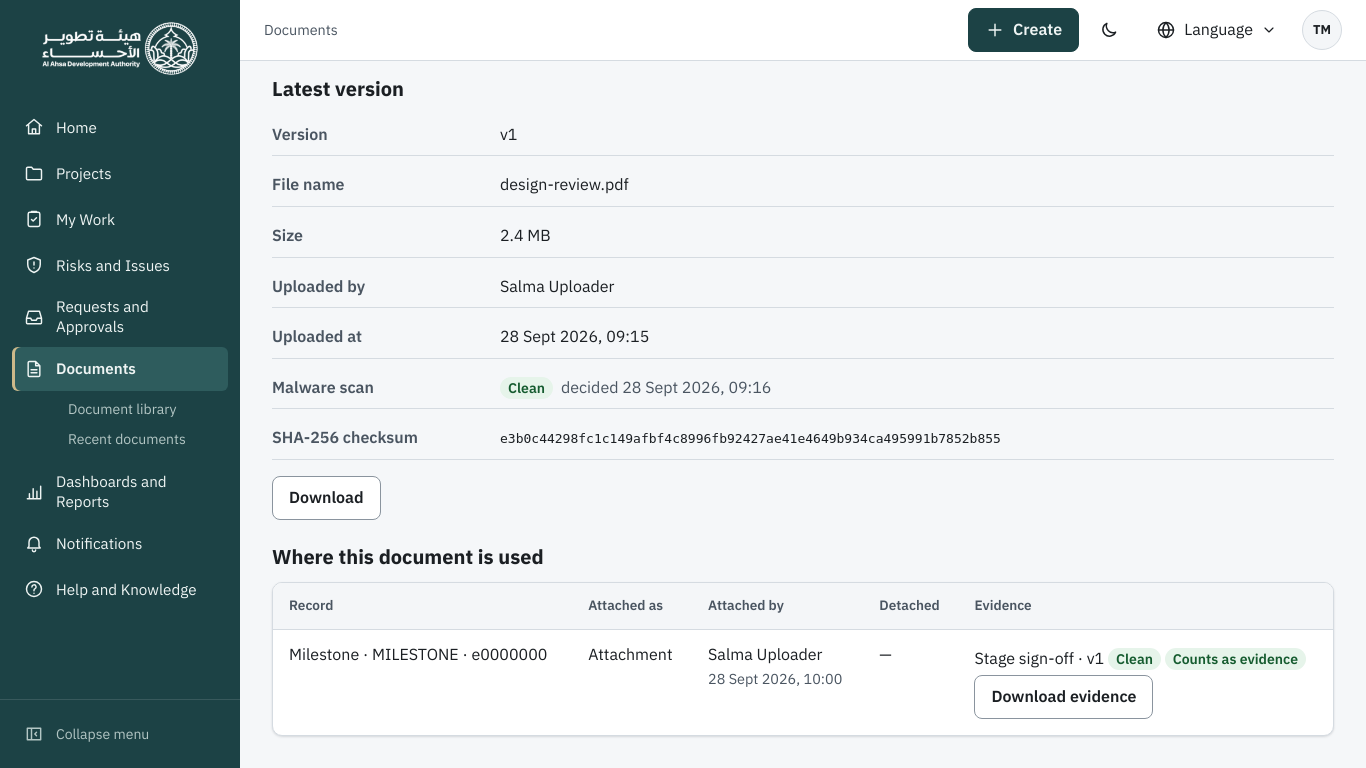
SCR-123 Document Detail › a download the server refuses says why
The width and height of the screenshot is (1366, 768).
(page scrolled)
Expected: the text "design-review.pdf" is shown, [500,174,629,194]
Click the button "Download" at (326, 498), box [272,476,381,520]
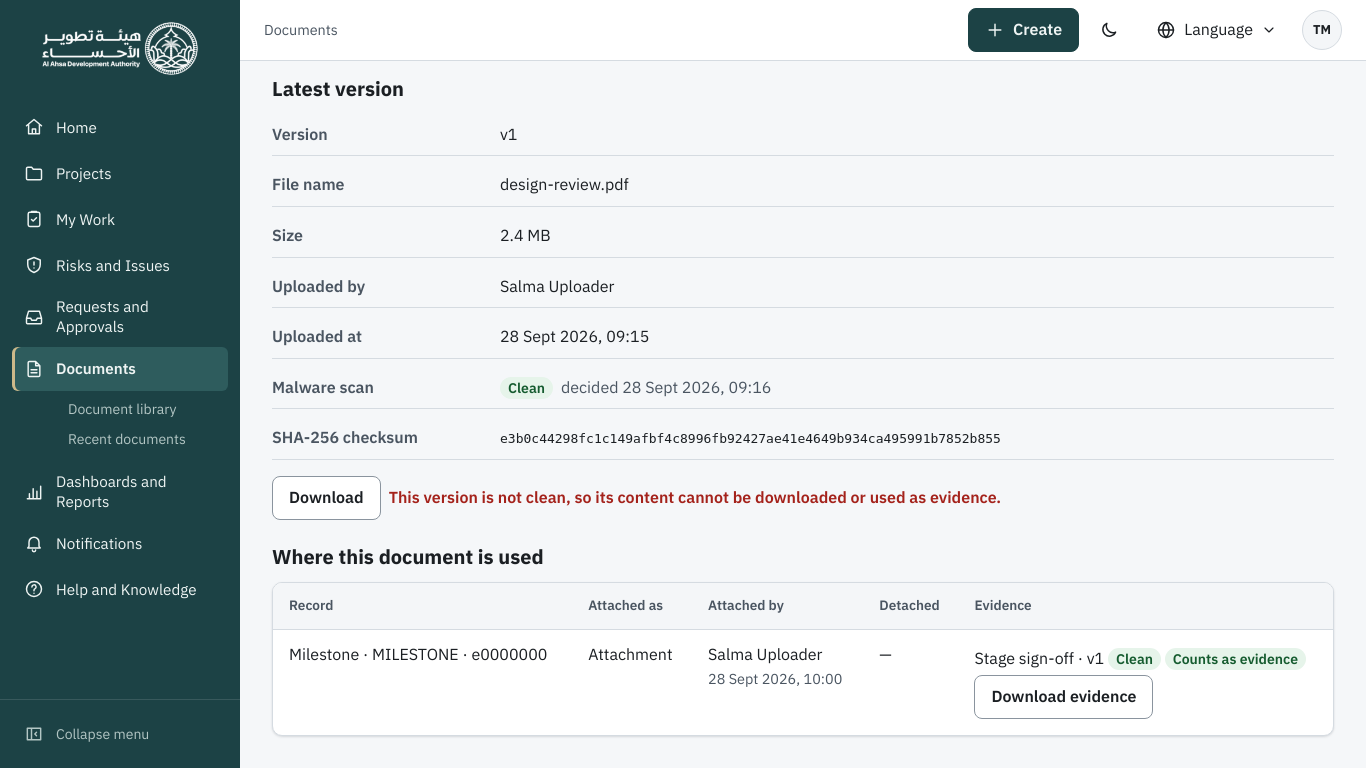
Expected: the message shows "This version is not clean, so its content cannot be downloaded or used as evidence.", [389,487,1001,507]
